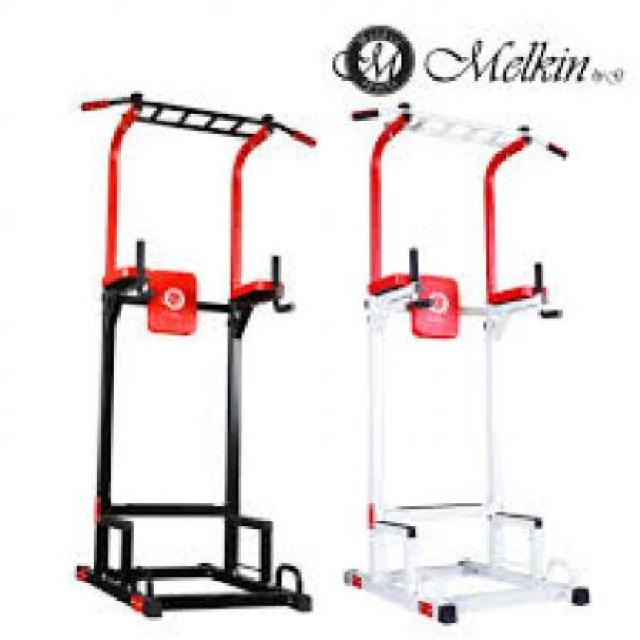chinning dipping: (348, 101, 590, 624), (83, 91, 319, 612)
